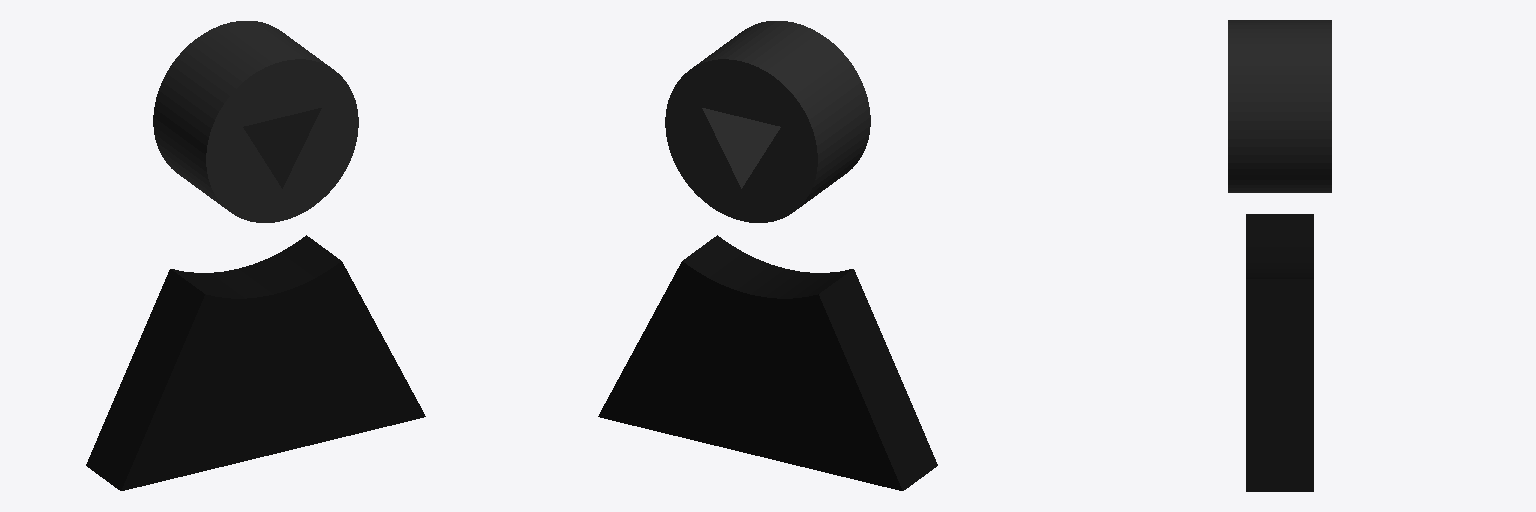
robot.urdf — Wheel-Legged-Infantry:
<?xml version="1.0" encoding="utf-8"?>

<robot name="Wheel-Legged-Infantry">
    <mujoco>
        <compiler meshdir="../meshes/" balanceinertia="false" discardvisual="false" fusestatic="false"/>
    </mujoco>
    <link name="baase">
        <inertial>
            <origin xyz="0 0 0" rpy="0 0 0"/>
            <mass value="100"/>
            <inertia ixx="1" ixy="0.001321" ixz="-0.01715" iyy="1" iyz="0.0002667" izz="1"/>
        </inertial>
        <visual>
            <origin xyz="0 0 0" rpy="0 0 0"/>
            <geometry>
                <mesh filename="../meshes/baase.STL"/>
            </geometry>
            <material name="">
                <color rgba="0.1 0.1 0.1 1"/>
            </material>
        </visual>
        <collision>
            <origin xyz="0 0 0.02" rpy="0 0 0"/>
            <geometry>
                <box size="0.1 0.03 0.04"/>
            </geometry>
        </collision>
    </link>
    <link name="whe">
        <inertial>
            <origin xyz="0 0 0" rpy="0 0 0"/>
            <mass value="0.468"/>
            <inertia ixx="0.000034258" ixy="0.0" ixz="0.0" iyy="0.0000540375" iyz="0.0" izz="0.0000343769"/>
        </inertial>
        <visual>
            <origin xyz="0 0 0" rpy="0 0 0"/>
            <geometry>
                <mesh filename="../meshes/whe50.STL"/>
            </geometry>
            <material name="">
                <color rgba="0.2 0.2 0.2 1"/>
            </material>
        </visual>
        <collision>
            <origin xyz="0 0 0" rpy="1.57 0 0"/>
            <geometry>
                <cylinder length="0.03" radius="0.026"/>
            </geometry>
        </collision>
    </link>
    <joint name="whe_joint" type="continuous">
        <origin xyz="0 0 0.1" rpy="0 0 0"/>
        <parent link="baase"/>
        <child link="whe"/>
        <axis xyz="0 1 0"/>
    </joint>


</robot>

--- What the picture shows (computed from the rendered views, not written in the file) ---
Views: 3 orthographic renders of the robot side by side, from view 1: azimuth 30°, elevation 25°; view 2: azimuth 150°, elevation 25°; view 3: azimuth 270°, elevation 25°.
Model Wheel-Legged-Infantry with 2 links and 1 joints (1 continuous), rooted at baase, posed all joints at 0.
Visible links, largest first — view 1: baase, whe; view 2: baase, whe; view 3: baase, whe.
Boxes of the visible links, box(x1,y1,x2,y2) form: baase: box(86, 235, 425, 490); whe: box(153, 21, 358, 222); baase: box(598, 235, 937, 490); whe: box(665, 21, 870, 222); baase: box(1246, 214, 1313, 491); whe: box(1228, 20, 1331, 192).
Size in the robot's own frame: 0.1 by 0.03 by 0.125 metres.
Meshes: 2 distinct files referenced, 2 mesh visuals loaded (2 binary STL).